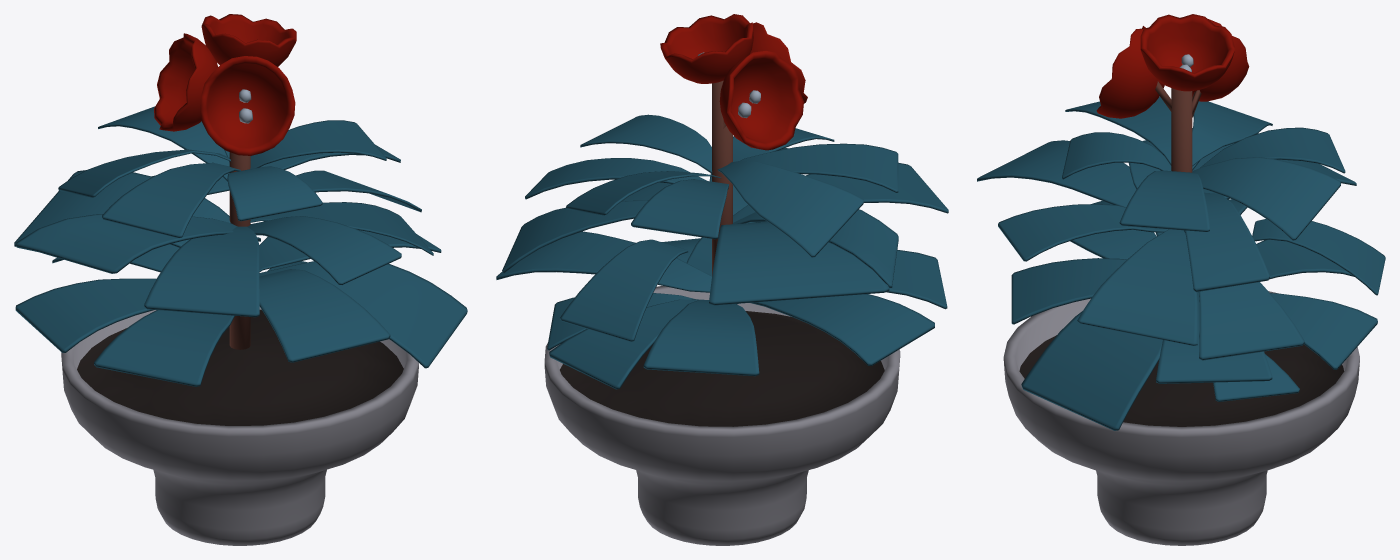
The model's file is GB_072_plant.glb.
3 renders of one model, left to right at view 1: azimuth 30°, elevation 25°; view 2: azimuth 150°, elevation 25°; view 3: azimuth 270°, elevation 25°, orthographic.
Parts seen in each view (by area): view 1: Plant; view 2: Plant; view 3: Plant.
Part boxes in pixels (x1,y1,x2,y2): Plant: (14, 14, 467, 545); Plant: (496, 14, 948, 545); Plant: (977, 14, 1385, 545).
Size of the model in its own units: 1.52 by 1.82 by 1.38.
